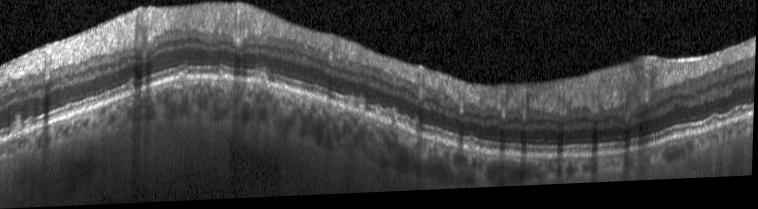retinal_drusen: (370, 114, 392, 128), (10, 120, 25, 140), (397, 126, 418, 139), (733, 117, 749, 130), (464, 145, 478, 154), (347, 101, 355, 115), (358, 106, 366, 119), (712, 125, 721, 136), (258, 76, 266, 87), (130, 85, 137, 94), (218, 72, 224, 82), (179, 74, 186, 81)
